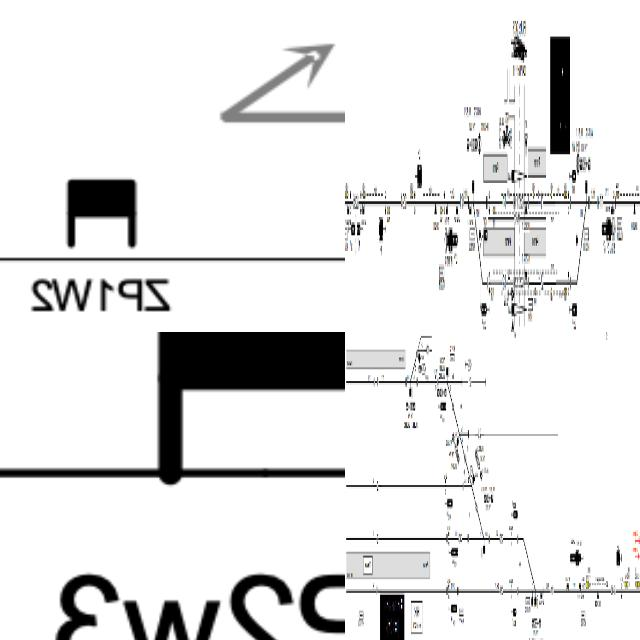mainsignal: (568, 302, 578, 320), (480, 301, 490, 316), (509, 510, 518, 520)
radzaehler: (118, 332, 345, 507), (46, 156, 156, 268), (468, 200, 472, 218), (346, 201, 349, 217), (445, 201, 448, 217), (610, 201, 613, 217), (565, 582, 569, 592), (578, 581, 581, 593), (540, 590, 543, 600), (362, 202, 364, 215), (456, 200, 458, 213)
trackjoint: (485, 196, 488, 212), (516, 583, 519, 599), (372, 375, 375, 391), (475, 501, 478, 516), (596, 198, 599, 210), (569, 198, 572, 210), (464, 454, 467, 466), (456, 585, 459, 597), (446, 529, 448, 547), (436, 377, 439, 389), (528, 277, 530, 293), (512, 196, 514, 212), (446, 583, 448, 599), (570, 275, 572, 290), (512, 275, 514, 290), (486, 275, 488, 290), (516, 533, 519, 543), (405, 378, 408, 388), (452, 400, 454, 413), (462, 481, 464, 493), (467, 532, 469, 544), (528, 196, 530, 207), (588, 199, 590, 209), (416, 378, 418, 388)
tracknumber: (399, 188, 408, 214), (352, 190, 359, 213), (499, 525, 504, 551), (459, 191, 464, 212), (610, 584, 617, 598), (540, 190, 544, 213), (541, 268, 544, 297), (600, 191, 604, 212), (502, 192, 506, 211), (502, 273, 506, 292), (499, 585, 504, 597), (550, 582, 554, 596), (458, 531, 462, 545), (468, 374, 472, 388), (426, 345, 430, 358), (477, 429, 482, 439), (376, 477, 379, 493), (376, 530, 379, 546), (376, 586, 379, 600), (376, 376, 378, 386)
weiche: (470, 472, 477, 494), (481, 533, 486, 559), (456, 428, 462, 448), (408, 374, 412, 400), (534, 584, 538, 610), (584, 179, 588, 203), (531, 582, 534, 612), (416, 349, 421, 362), (446, 366, 449, 384), (472, 178, 474, 204)
